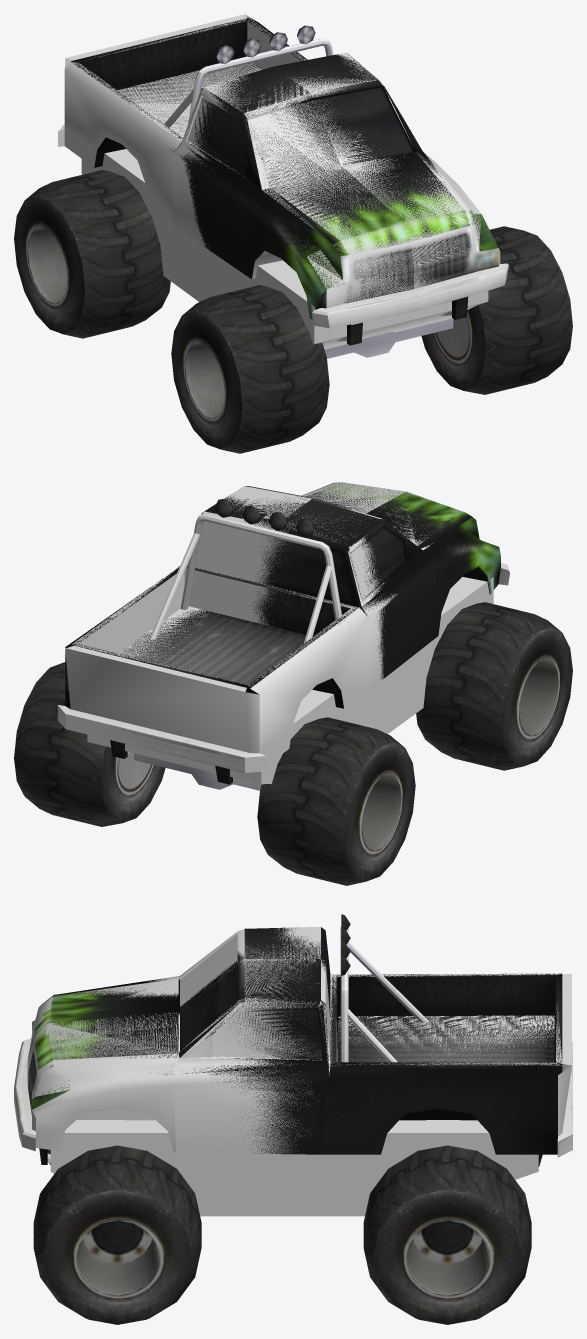
Rendered from monsterTruck.fbx.
The picture shows the model from 3 angles, top to bottom: view 1: azimuth 30°, elevation 25°; view 2: azimuth 150°, elevation 25°; view 3: azimuth 270°, elevation 25°; orthographic projection. The views are drawn at different scales.
Parts seen in each view (by area): view 1: car_body, fr_tire, rr_tire, ConvexHull_Hidden_01, fl_tire, ConvexHull_Hidden_00, ConvexHull_Hidden_05 (×2), ConvexHull_Hidden_04, ConvexHull_Hidden_02, front_axle, ConvexHull_Hidden_03; view 2: car_body, ConvexHull_Hidden_05 (×2), rr_tire, fr_tire, rl_tire, ConvexHull_Hidden_00, ConvexHull_Hidden_04, ConvexHull_Hidden_02, ConvexHull_Hidden_03, ConvexHull_Hidden_01, rear_axle; view 3: car_body, fl_tire, rl_tire, ConvexHull_Hidden_05 (×2), ConvexHull_Hidden_00, ConvexHull_Hidden_01, ConvexHull_Hidden_02.
Part boxes in pixels (bbox=[...]): car_body: bbox=[58, 17, 506, 345]; fr_tire: bbox=[171, 285, 329, 453]; rr_tire: bbox=[14, 170, 170, 338]; ConvexHull_Hidden_01: bbox=[252, 154, 508, 327]; fl_tire: bbox=[421, 226, 572, 394]; ConvexHull_Hidden_00: bbox=[173, 52, 434, 249]; ConvexHull_Hidden_05 (×2): bbox=[61, 14, 488, 348]; ConvexHull_Hidden_04: bbox=[64, 61, 182, 225]; ConvexHull_Hidden_02: bbox=[58, 63, 261, 167]; front_axle: bbox=[324, 318, 453, 358]; ConvexHull_Hidden_03: bbox=[247, 18, 305, 69]; car_body: bbox=[57, 482, 509, 784]; ConvexHull_Hidden_05 (×2): bbox=[64, 577, 493, 784]; rr_tire: bbox=[257, 717, 415, 885]; fr_tire: bbox=[416, 602, 572, 770]; rl_tire: bbox=[14, 662, 165, 826]; ConvexHull_Hidden_00: bbox=[178, 486, 416, 689]; ConvexHull_Hidden_04: bbox=[248, 607, 368, 752]; ConvexHull_Hidden_02: bbox=[65, 606, 292, 772]; ConvexHull_Hidden_03: bbox=[71, 566, 184, 653]; ConvexHull_Hidden_01: bbox=[301, 482, 504, 565]; rear_axle: bbox=[134, 753, 261, 790]; car_body: bbox=[14, 914, 572, 1166]; fl_tire: bbox=[33, 1145, 201, 1324]; rl_tire: bbox=[363, 1145, 531, 1324]; ConvexHull_Hidden_05 (×2): bbox=[50, 973, 572, 1216]; ConvexHull_Hidden_00: bbox=[173, 926, 337, 1154]; ConvexHull_Hidden_01: bbox=[14, 976, 179, 1152]; ConvexHull_Hidden_02: bbox=[338, 1015, 554, 1061].
Size of the model in its own units: 111 by 153 by 94.73.
2 materials, 2 textured.
